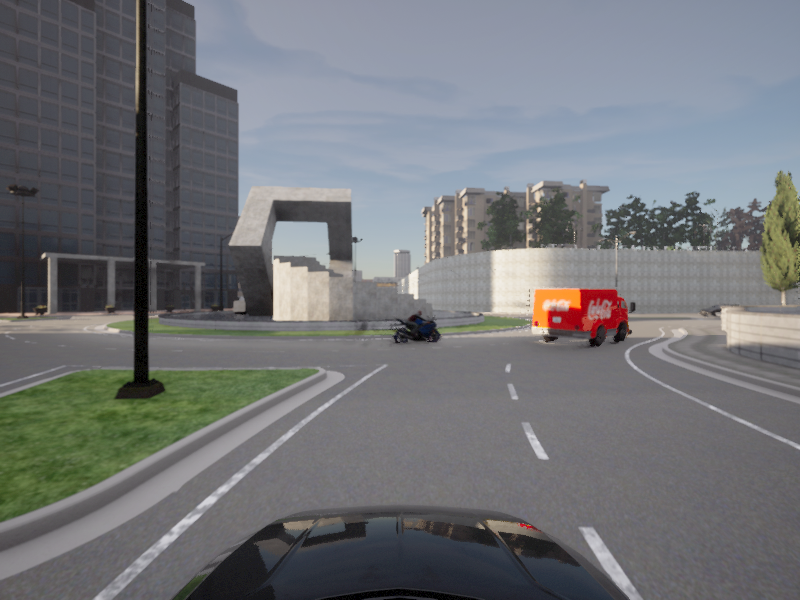vehicle: (527, 287, 640, 350), (390, 310, 444, 346)
